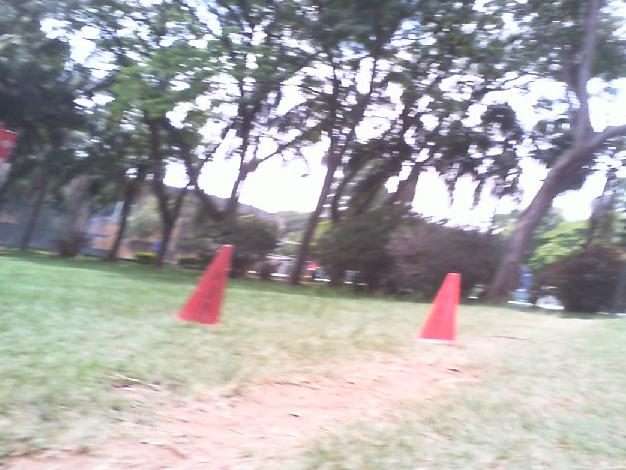0 cone: (173, 245, 233, 326), (416, 273, 461, 346)
